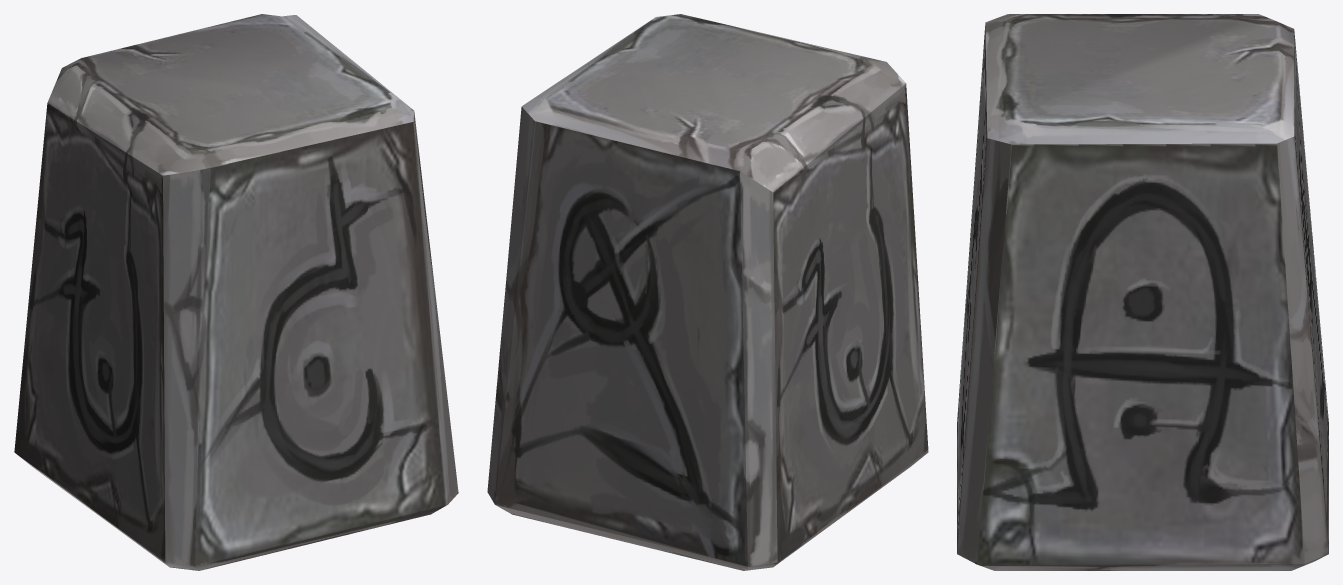
File: odelisk_box4.FBX
3 views of the same model, side by side, from view 1: azimuth 30°, elevation 25°; view 2: azimuth 150°, elevation 25°; view 3: azimuth 270°, elevation 25° (orthographic). The views are drawn at different scales.
Visible parts, largest first — view 1: lock007; view 2: lock007; view 3: lock007.
Part boxes in pixels (box(x1,y1,x2,y2)): lock007: box(14, 14, 458, 570); lock007: box(487, 14, 928, 570); lock007: box(957, 14, 1328, 570).
Size of the model in its own units: 52.99 by 69.8 by 54.54.
